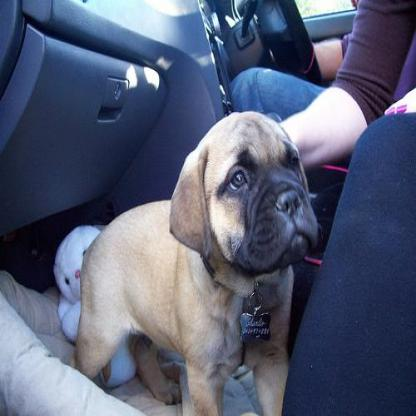bull_mastiff: (74, 111, 319, 414)
